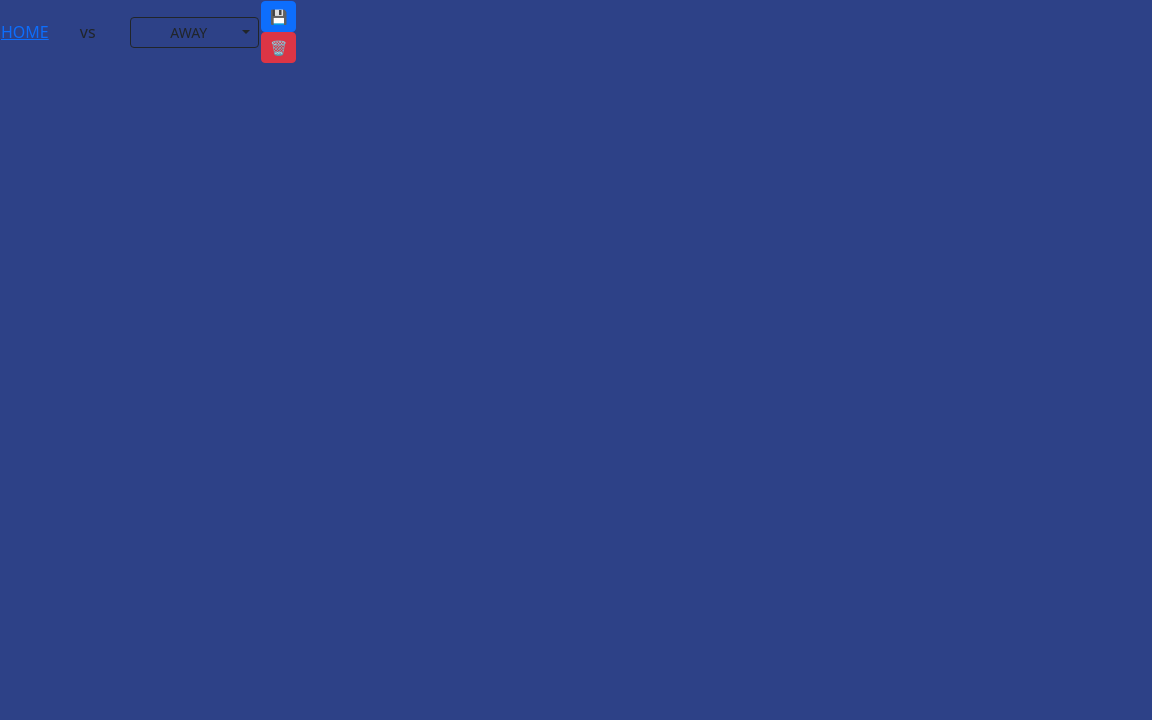
DivisionFixture › when logged in › handles error during save
Expected: the cell "💾 🗑" is shown, top-left (260, 0), bottom-right (310, 64)
Click the button "💾" at (279, 16), box top-left (261, 1), bottom-right (296, 32)
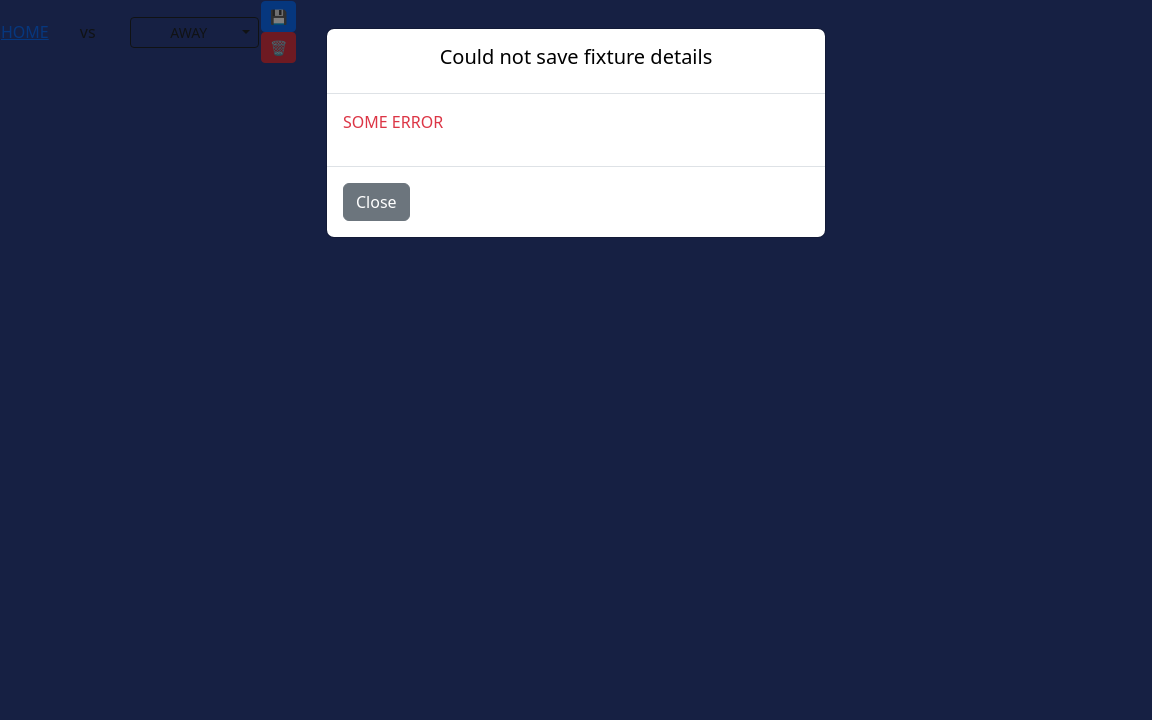
Result: the text "Could not save fixture details" is shown at top-left (440, 45), bottom-right (712, 69)
Result: the text "SOME ERROR" is shown at top-left (343, 111), bottom-right (443, 133)
